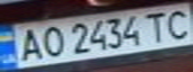2: (66, 19, 90, 55)
3: (103, 16, 127, 51)
4: (121, 11, 148, 47), (87, 17, 109, 53)
A: (12, 26, 45, 63)
C: (160, 7, 193, 40)
O: (36, 24, 66, 58)
T: (139, 9, 172, 43)
